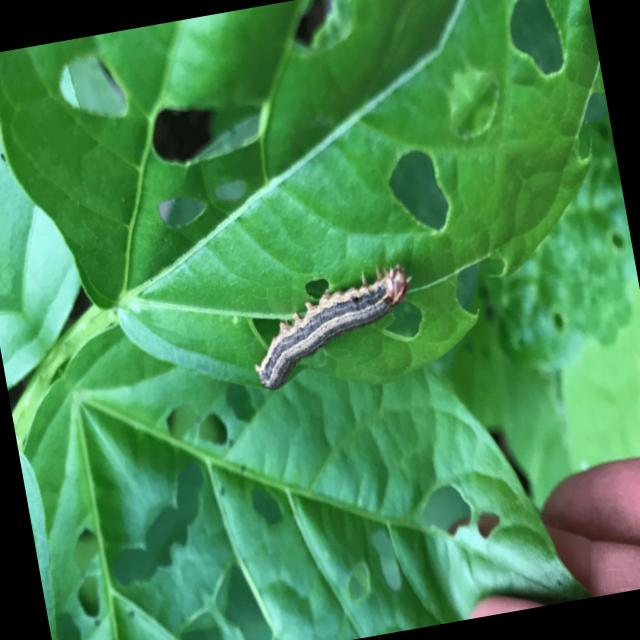Armyworm: (233, 253, 425, 411)
Armyworm_damage: (149, 78, 290, 184), (37, 33, 144, 155), (374, 138, 472, 249), (494, 1, 582, 90), (413, 463, 489, 560), (272, 1, 375, 66), (156, 178, 214, 245)
